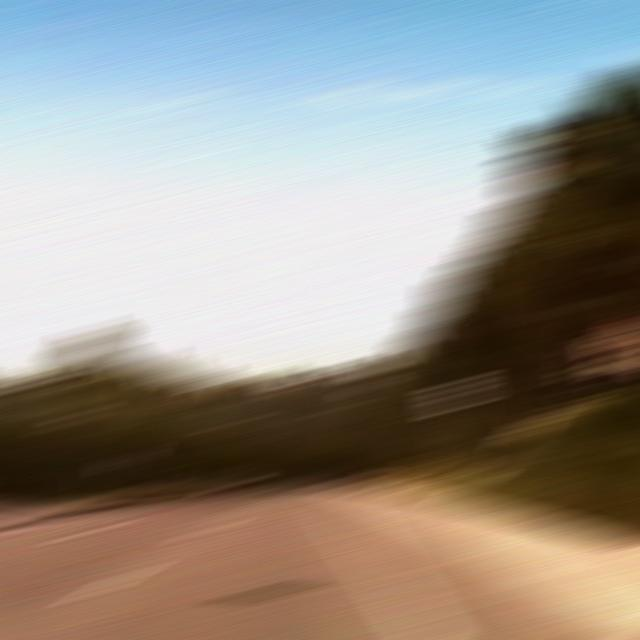speedLimit45: (434, 378, 480, 409)
